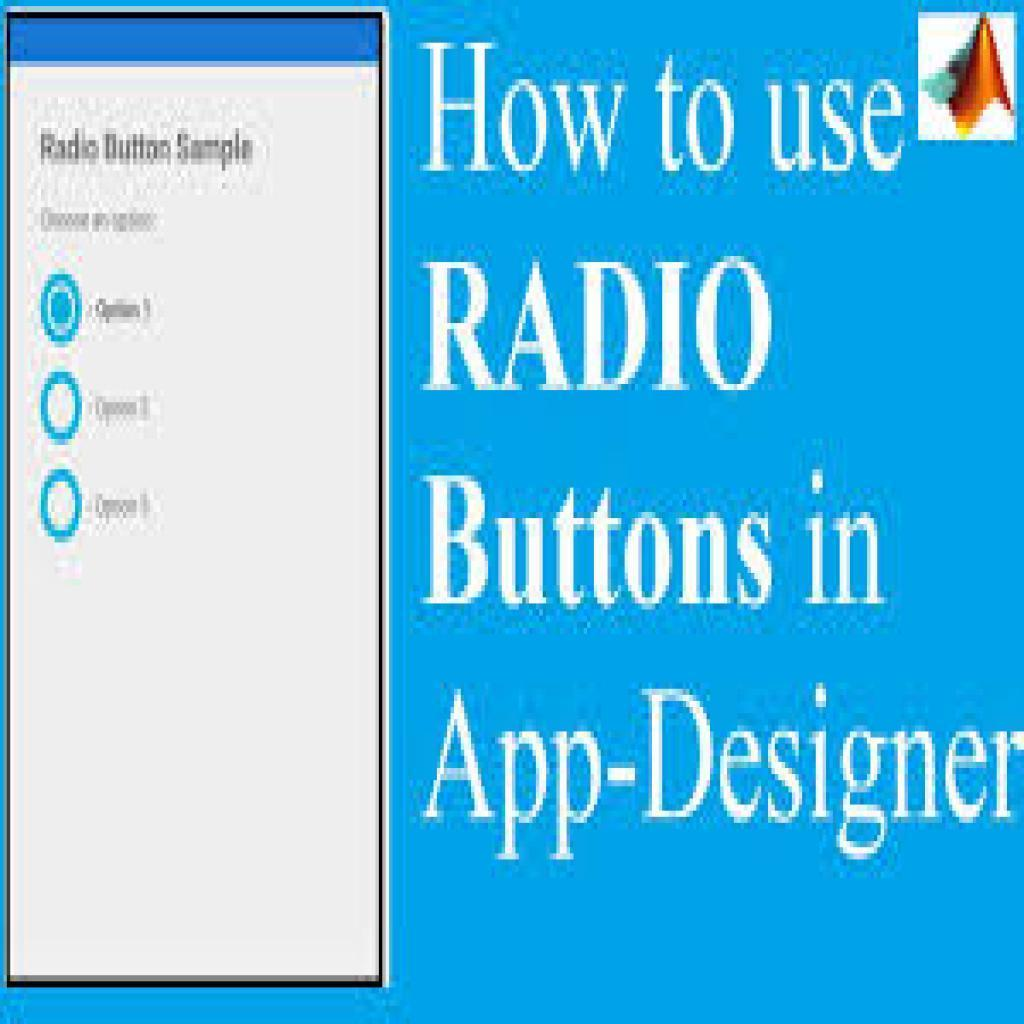radio: (37, 366, 85, 448), (39, 270, 86, 350), (41, 467, 86, 545)
